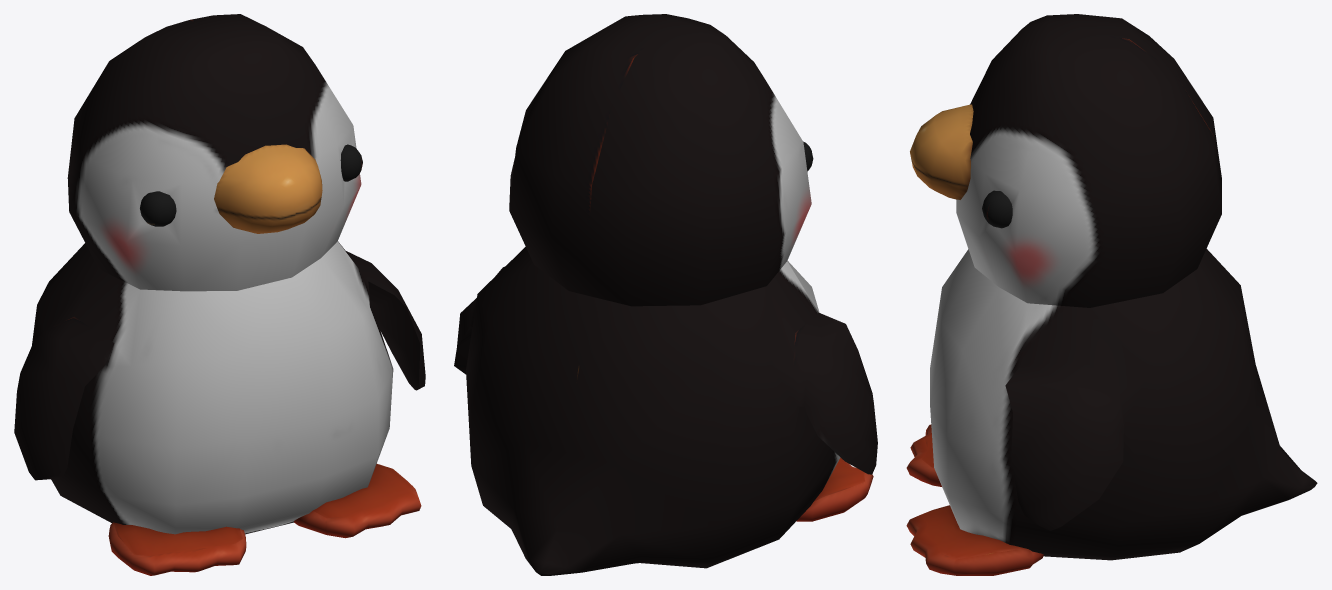
Rendered from penguin.glb.
The picture shows the model from 3 angles, left to right: view 1: azimuth 30°, elevation 25°; view 2: azimuth 150°, elevation 25°; view 3: azimuth 270°, elevation 25°; orthographic projection. The views are drawn at different scales.
Parts seen in each view (by area): view 1: Box001; view 2: Box001; view 3: Box001.
Boxes of the visible parts, box(x1,y1,x2,y2) form: Box001: box(14, 14, 425, 575); Box001: box(454, 14, 877, 575); Box001: box(906, 14, 1317, 575).
Bounding box in the file's own units: 2.1 × 2.43 × 1.87.
Materials: 1 (1 with a texture image).
